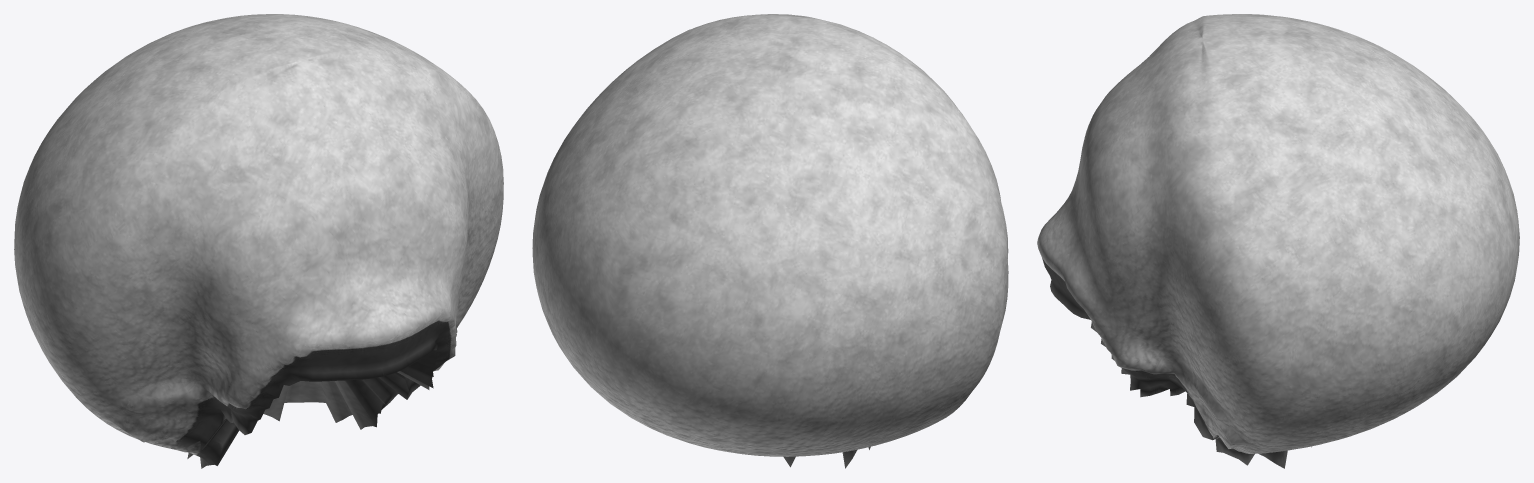
File: hair_afro_male.glb
The picture shows the model from 3 angles, left to right: view 1: azimuth 30°, elevation 25°; view 2: azimuth 150°, elevation 25°; view 3: azimuth 270°, elevation 25°; orthographic projection. The views are drawn at different scales.
Parts seen in each view (by area): view 1: HairAfro; view 2: HairAfro; view 3: HairAfro.
Part boxes in pixels (x1=…): HairAfro: x1=14, y1=14, x2=503, y2=468; HairAfro: x1=532, y1=14, x2=1008, y2=468; HairAfro: x1=1037, y1=14, x2=1519, y2=468.
Bounding box in the file's own units: 0.3005 × 0.2648 × 0.2922.
Materials: 1 (1 with a texture image).
